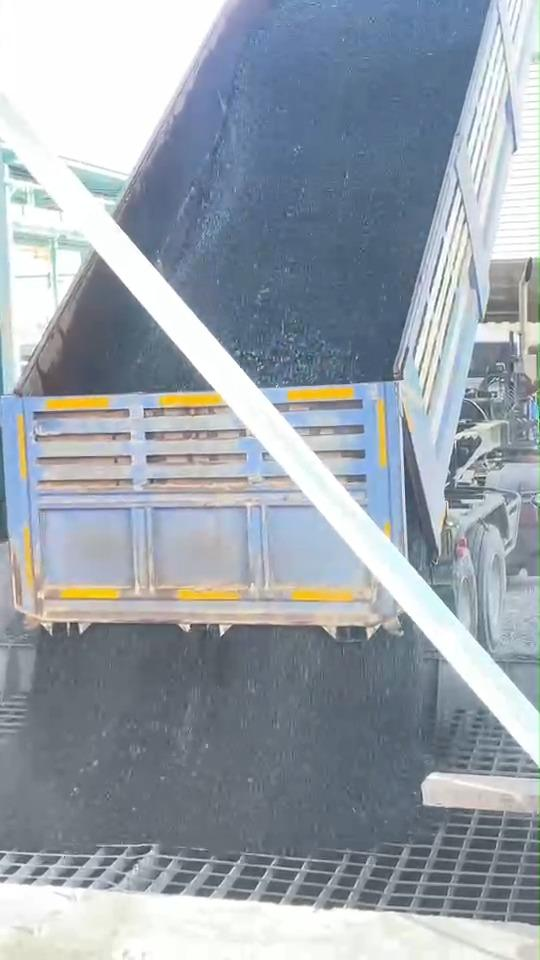gravel: (154, 0, 486, 386), (0, 627, 424, 852), (121, 301, 203, 390)
